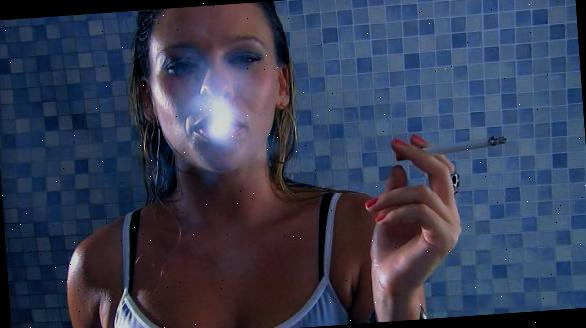smoke: (176, 91, 257, 155)
